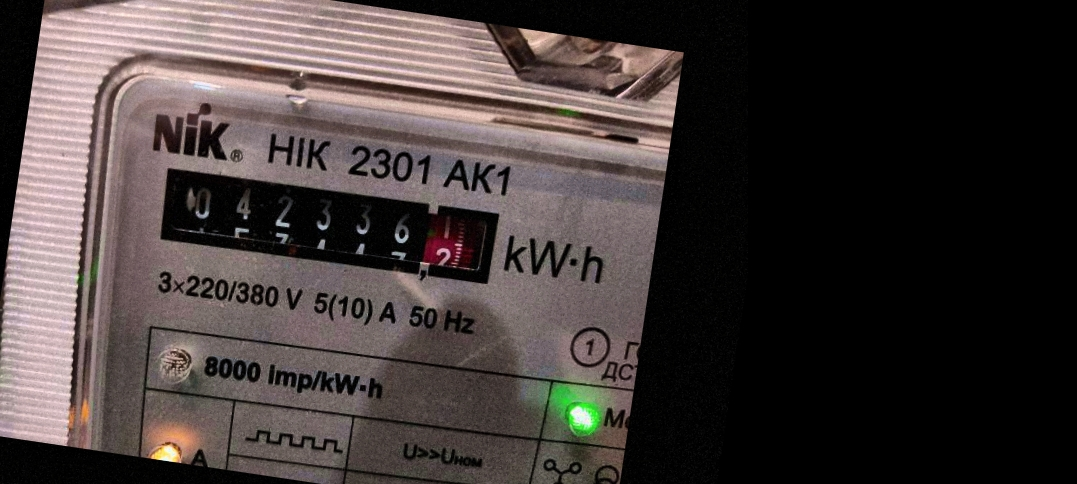0: (190, 183, 215, 221)
1: (437, 211, 454, 241)
2: (270, 191, 295, 230), (430, 244, 452, 268)
3: (311, 193, 335, 234), (349, 199, 374, 238)
4: (231, 182, 255, 222)
6: (387, 208, 414, 245)
screen: (147, 153, 509, 297)
